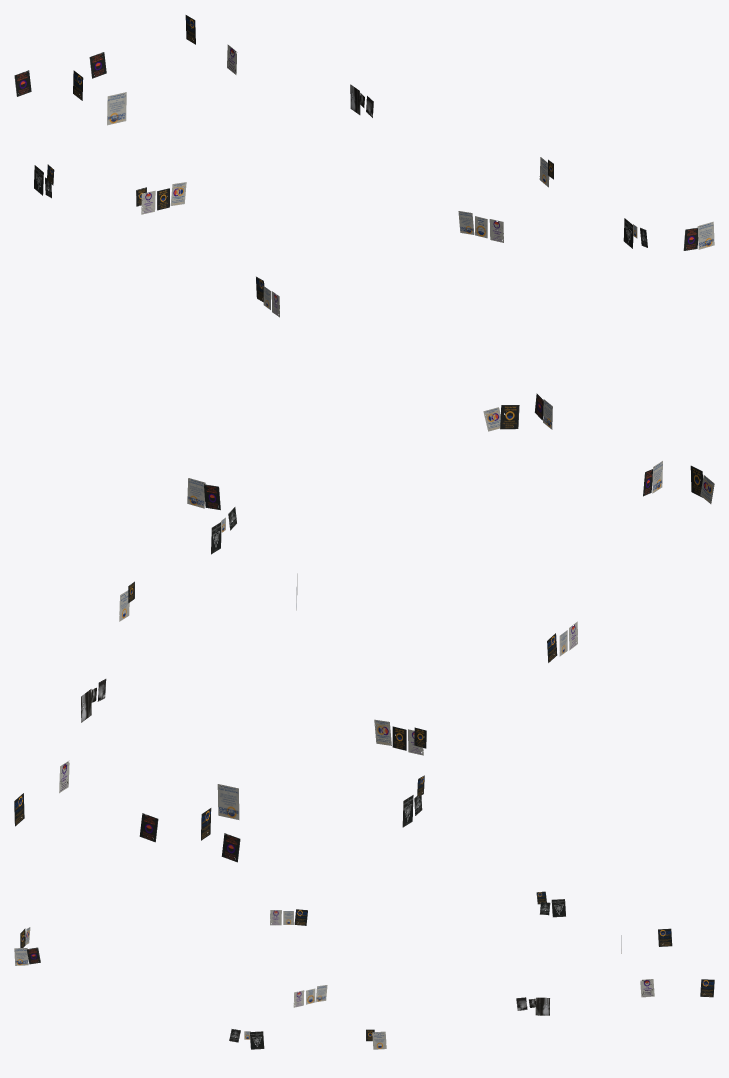
Rendered from ShipPosters.fbx.
3 renders of one model, top to bottom at view 1: azimuth 30°, elevation 25°; view 2: azimuth 150°, elevation 25°; view 3: azimuth 270°, elevation 25°, orthographic. The views are drawn at different scales.
Visible parts, largest first — view 1: Plane.142; view 2: Plane.155; view 3: Plane.142.
Boxes of the visible parts, x1,y1,x2,y2 form: Plane.142: (458,211,503,242); Plane.155: (217,784,239,819); Plane.142: (293,985,327,1007).
Bounding box in the file's own units: 2526 × 218 × 4790.
